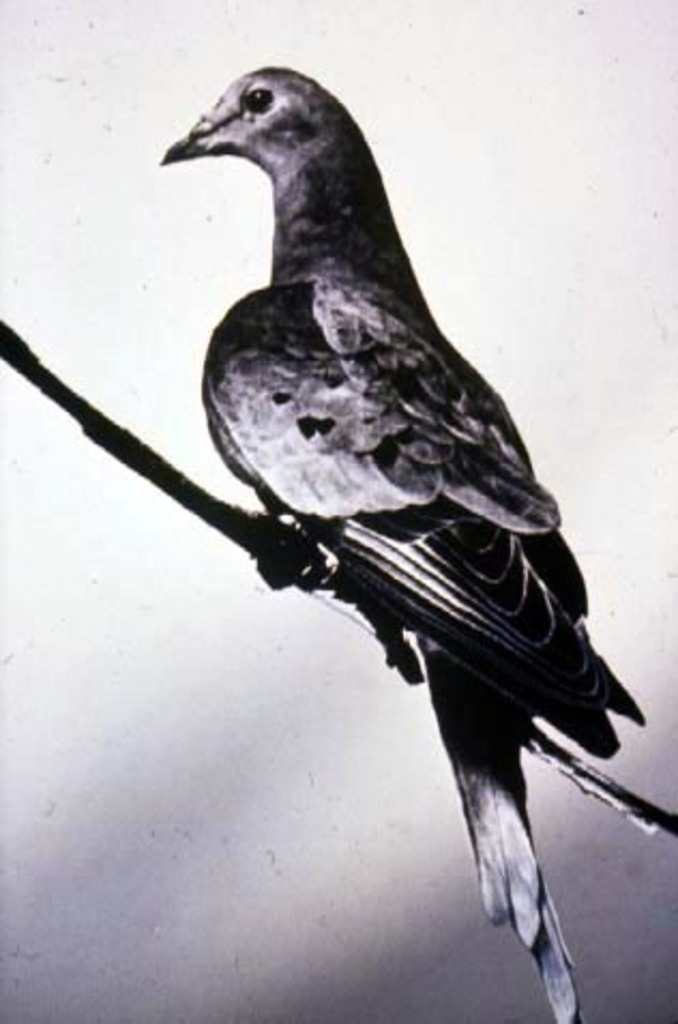Bird: (159, 67, 646, 1024)
